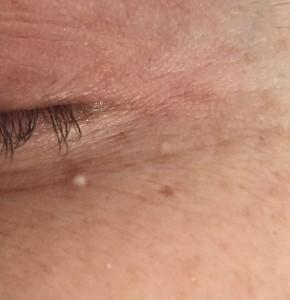milium: (133, 134, 216, 168), (53, 156, 108, 203), (92, 256, 134, 288), (186, 267, 202, 297)
